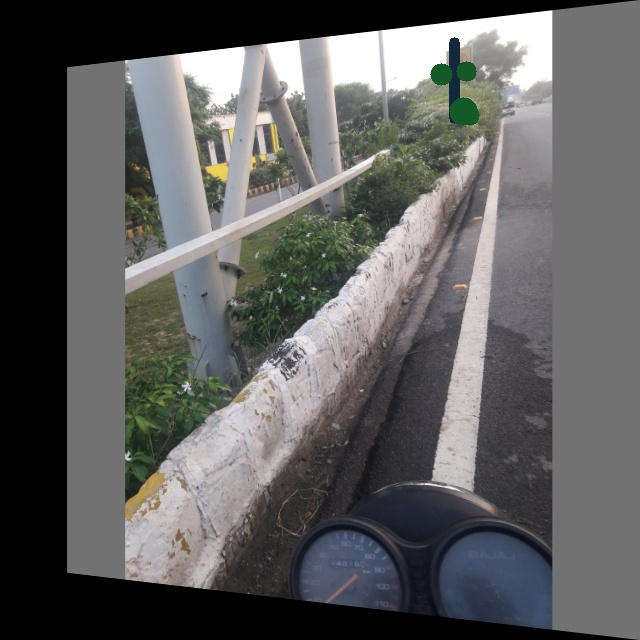U_Turn_Prohibited: (447, 47, 476, 81)
